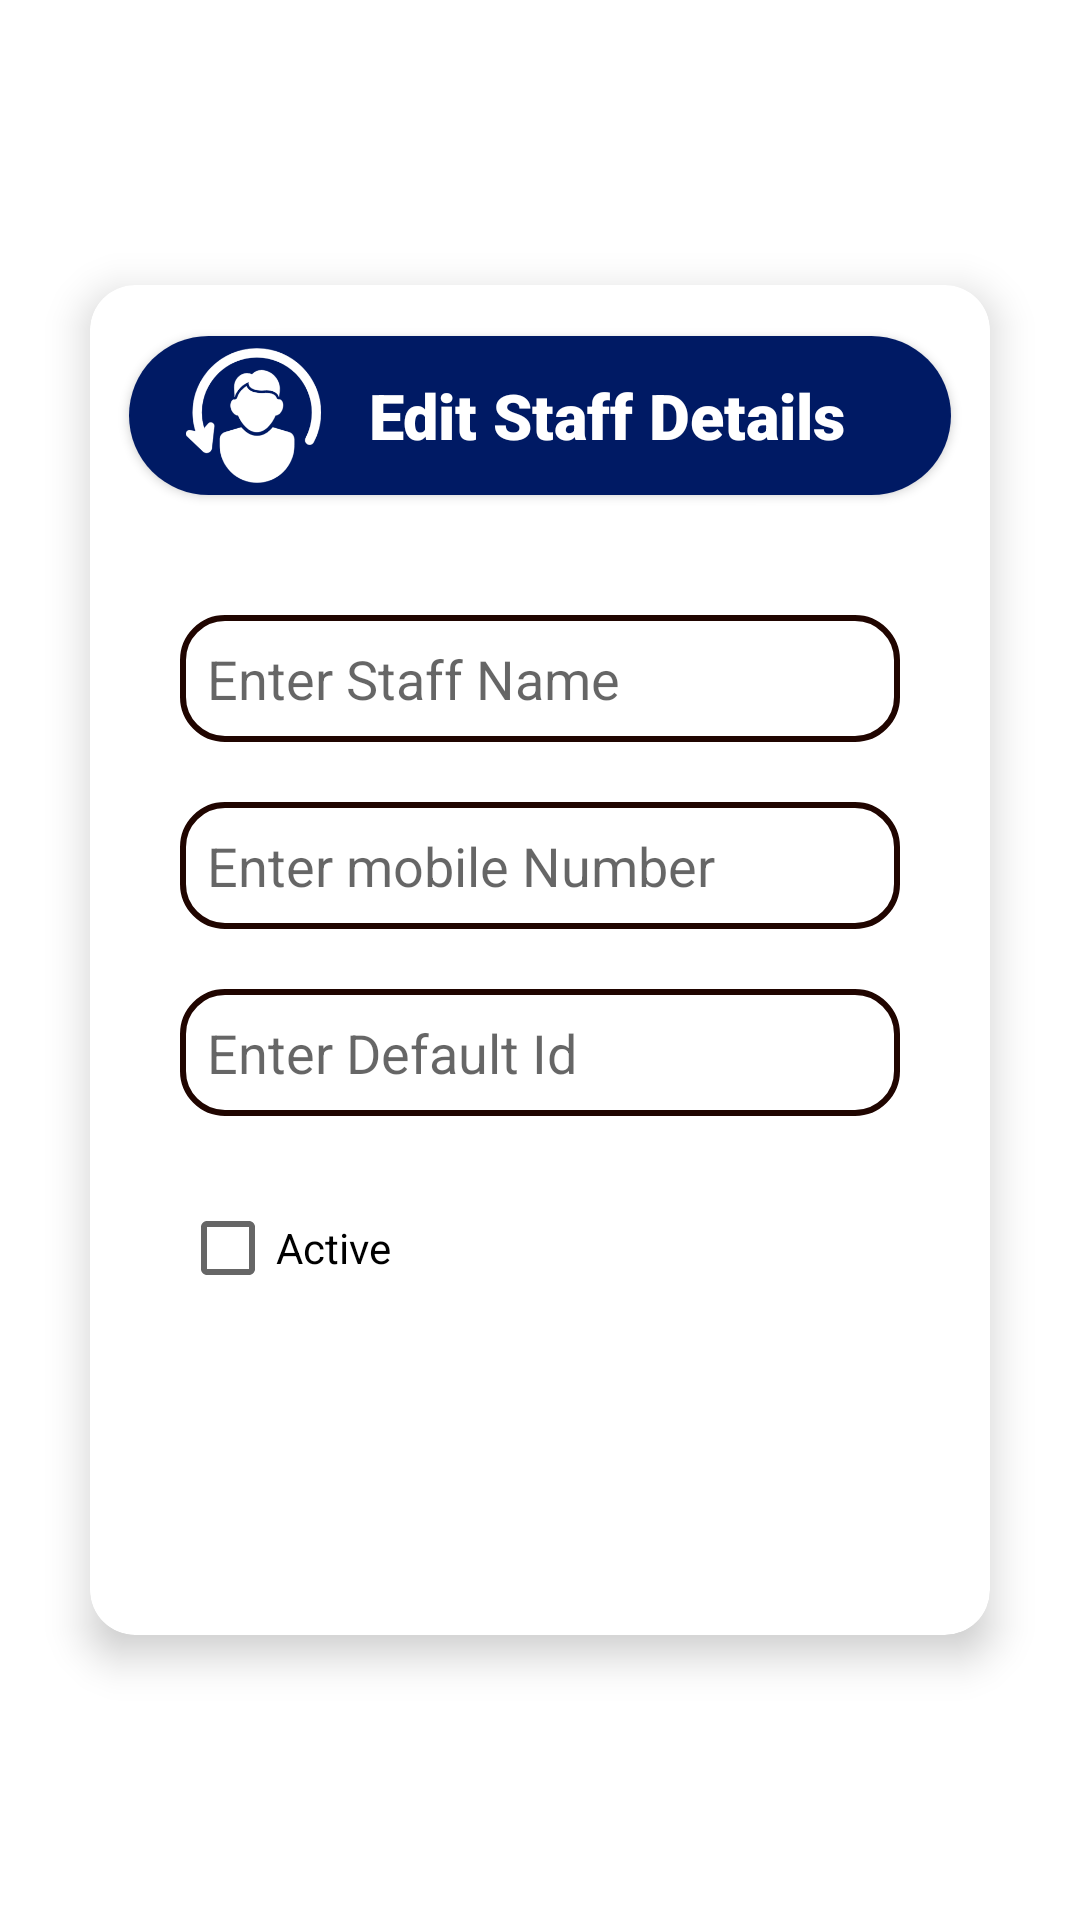

Named icons in this screenshot (1080w x 1920h) and their bounding boxes, rect(x1, y1, x2, y2):
updatestaff: rect(186, 348, 321, 483)
